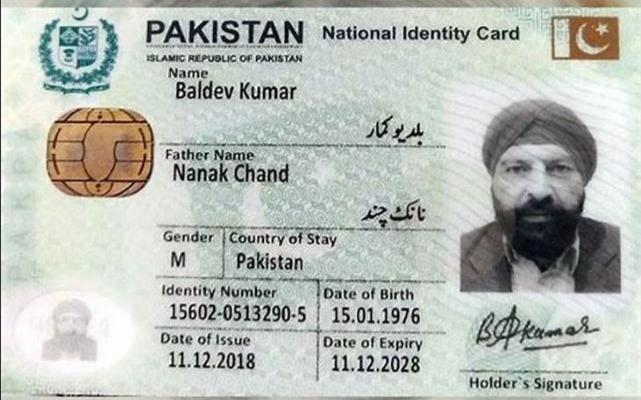fname: (169, 159, 292, 187)
name: (172, 78, 303, 103)
number: (166, 298, 310, 328)
